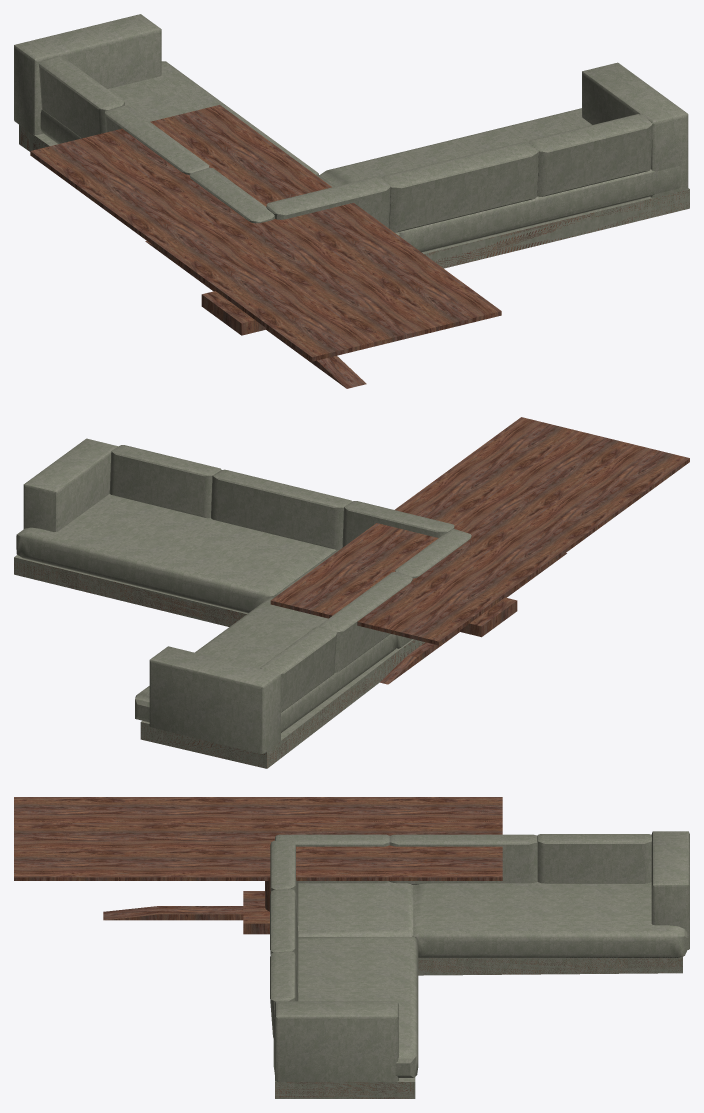
Rendered from furniture.fbx.
3 views of the same model, one above another, from view 1: azimuth 30°, elevation 25°; view 2: azimuth 150°, elevation 25°; view 3: azimuth 270°, elevation 25° (orthographic). The views are drawn at different scales.
Parts seen in each view (by area): view 1: Group1, Group2; view 2: Group1, Group2; view 3: Group1, Group2.
Boxes of the visible parts, x1,y1,x2,y2 form: Group1: (14,14,689,268); Group2: (30,105,501,388); Group1: (14,438,471,768); Group2: (270,417,689,684); Group1: (270,831,689,1098); Group2: (14,797,502,934).
Bounding box in the file's own units: 160 × 28.44 × 204.
